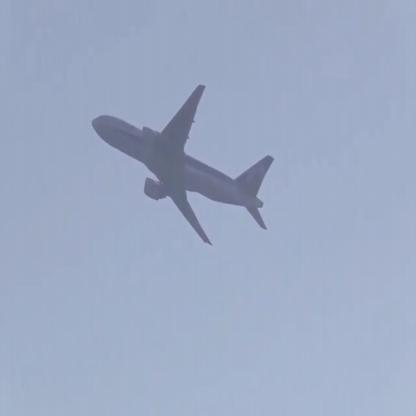CIV_Plane: (92, 83, 280, 245)
